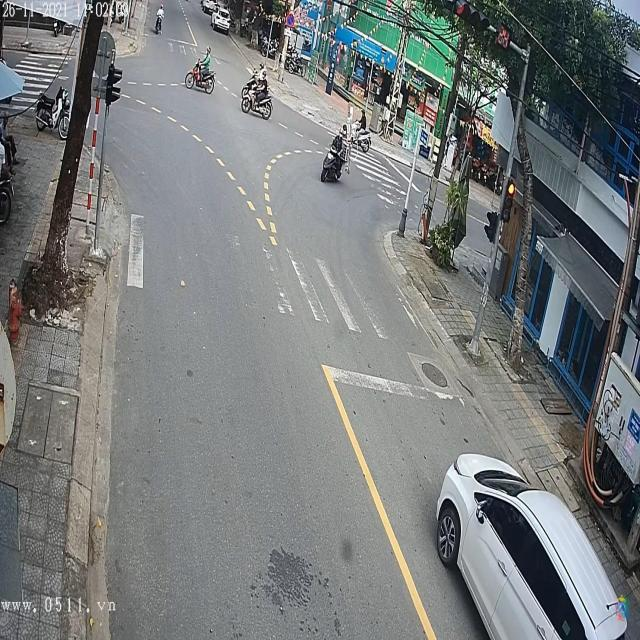motorcycle: (241, 81, 274, 119), (320, 148, 347, 182), (184, 64, 215, 92)
